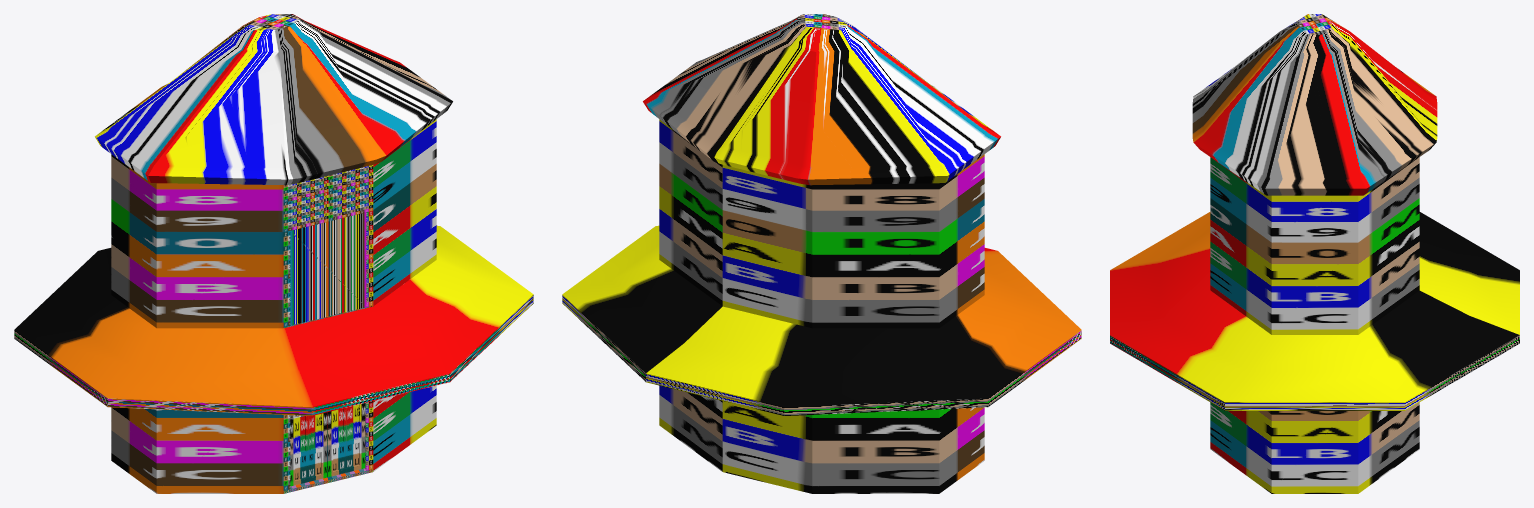
Rendered from sakaba_test.fbx.
The picture shows the model from 3 angles, left to right: view 1: azimuth 30°, elevation 25°; view 2: azimuth 150°, elevation 25°; view 3: azimuth 270°, elevation 25°; orthographic projection. The views are drawn at different scales.
Parts seen in each view (by area): view 1: pCylinder5; view 2: pCylinder5; view 3: pCylinder5.
Part boxes in pixels (left/top/right/bottom): pCylinder5: left=14, top=14, right=533, bottom=493; pCylinder5: left=562, top=14, right=1081, bottom=493; pCylinder5: left=1110, top=14, right=1519, bottom=493.
Size of the model in its own units: 745 by 704 by 647.
1 material, 1 textured.
